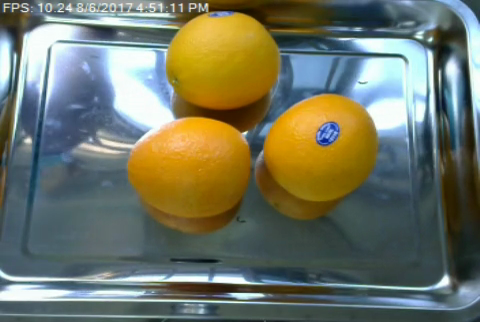Orange: (126, 116, 250, 217), (264, 93, 378, 201), (166, 9, 280, 109)
